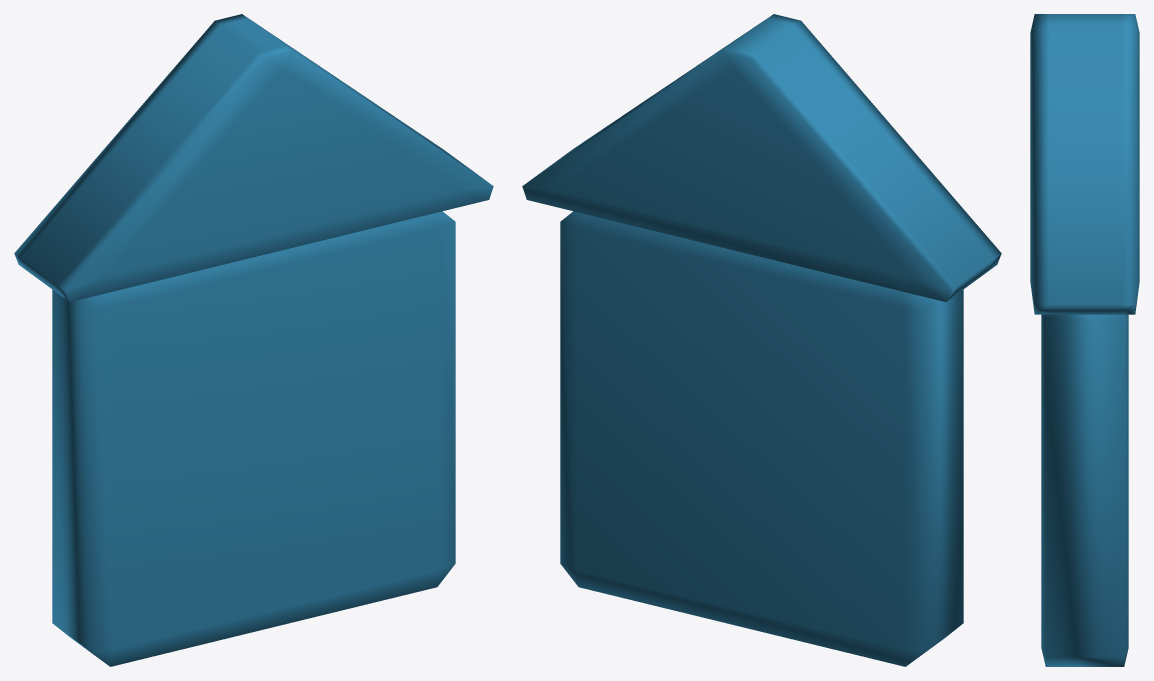
File: home.glb
3 views of the same model, side by side, from view 1: azimuth 30°, elevation 25°; view 2: azimuth 150°, elevation 25°; view 3: azimuth 270°, elevation 25° (orthographic).
Parts seen in each view (by area): view 1: Cube; view 2: Cube; view 3: Cube.
Part boxes in pixels (bbox=[...]): Cube: bbox=[14, 14, 493, 666]; Cube: bbox=[522, 14, 1001, 666]; Cube: bbox=[1030, 14, 1139, 666].
Bounding box in the file's own units: 0.3379 × 0.4345 × 0.0759.
